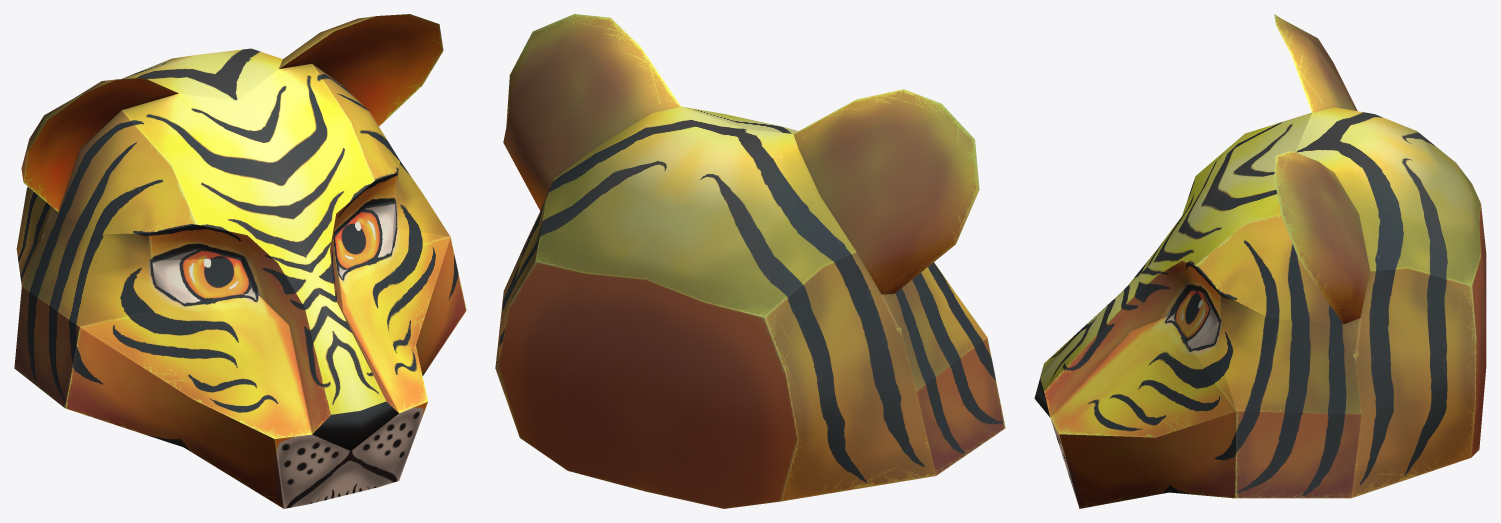
Rendered from tiger.gltf.
The picture shows the model from 3 angles, left to right: view 1: azimuth 30°, elevation 25°; view 2: azimuth 150°, elevation 25°; view 3: azimuth 270°, elevation 25°; orthographic projection. The views are drawn at different scales.
Parts seen in each view (by area): view 1: Tiger_Mask; view 2: Tiger_Mask; view 3: Tiger_Mask.
Part boxes in pixels (<box>): Tiger_Mask: <box>14,14,466,508</box>; Tiger_Mask: <box>495,14,1005,508</box>; Tiger_Mask: <box>1034,14,1486,508</box>.
Size of the model in its own units: 317 by 275 by 289.
Materials: 1 (1 with a texture image).
